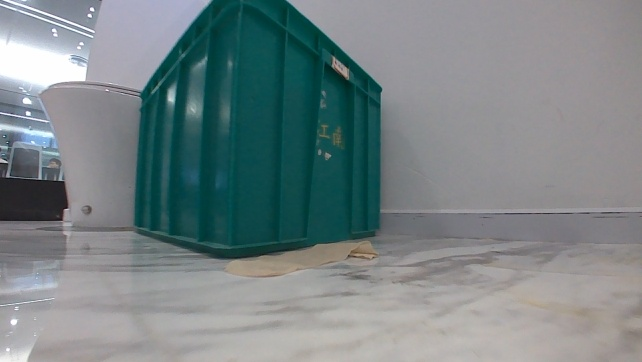socks: (220, 235, 381, 282)
toilet: (36, 76, 141, 232)
